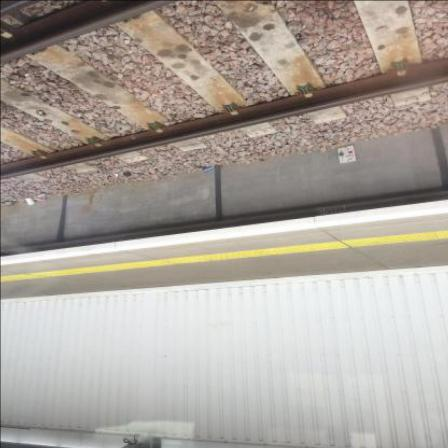Can: (39, 193, 49, 198)
Cup: (203, 166, 216, 174), (25, 197, 36, 206)
Lid: (124, 173, 133, 178)
Straw: (22, 204, 28, 205)
Unlabeled litter: (34, 197, 47, 202)
